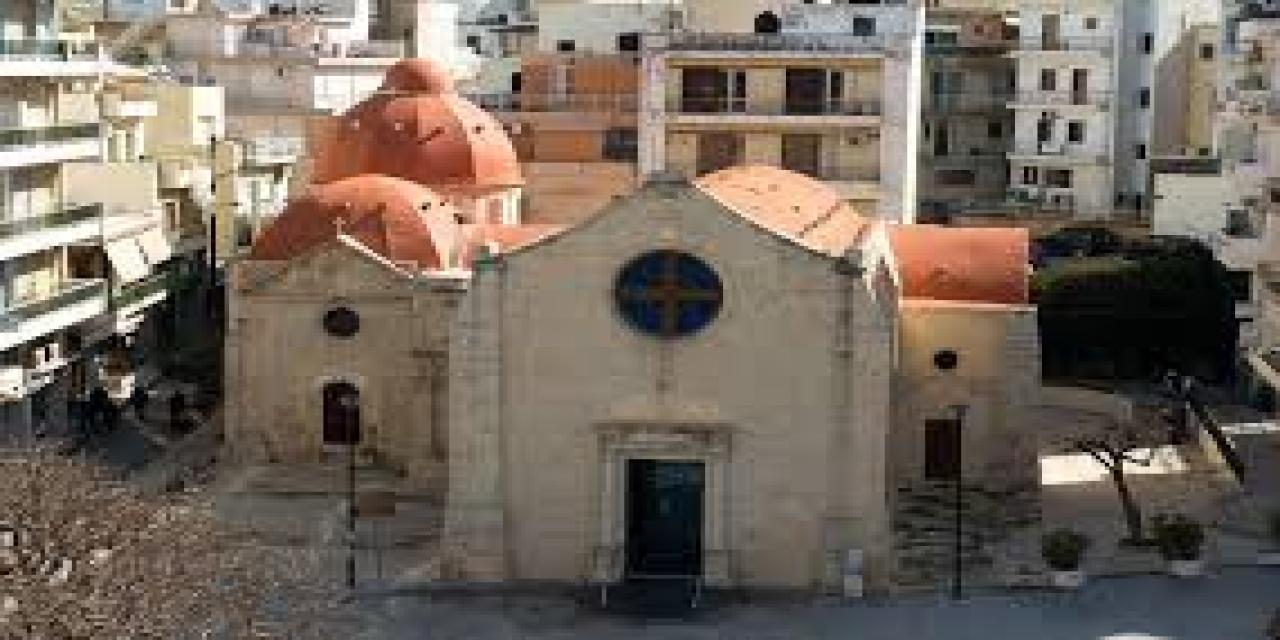Agia Aikaterini: (233, 57, 1049, 590)
